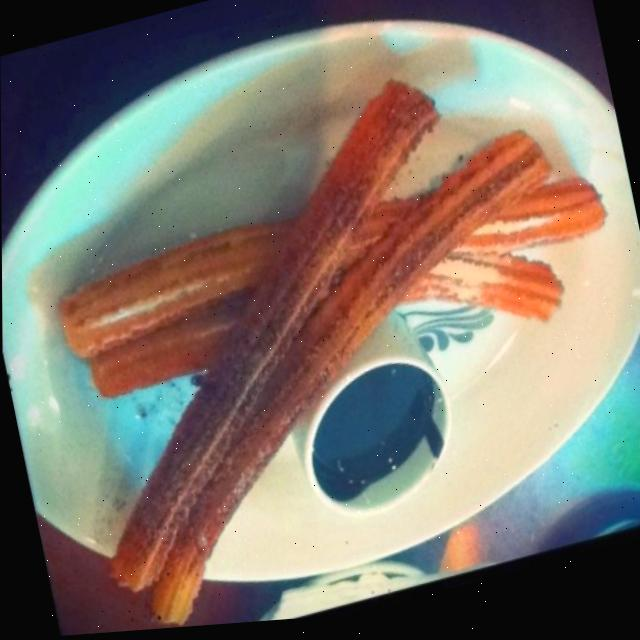炸货点心: (8, 28, 640, 639)
